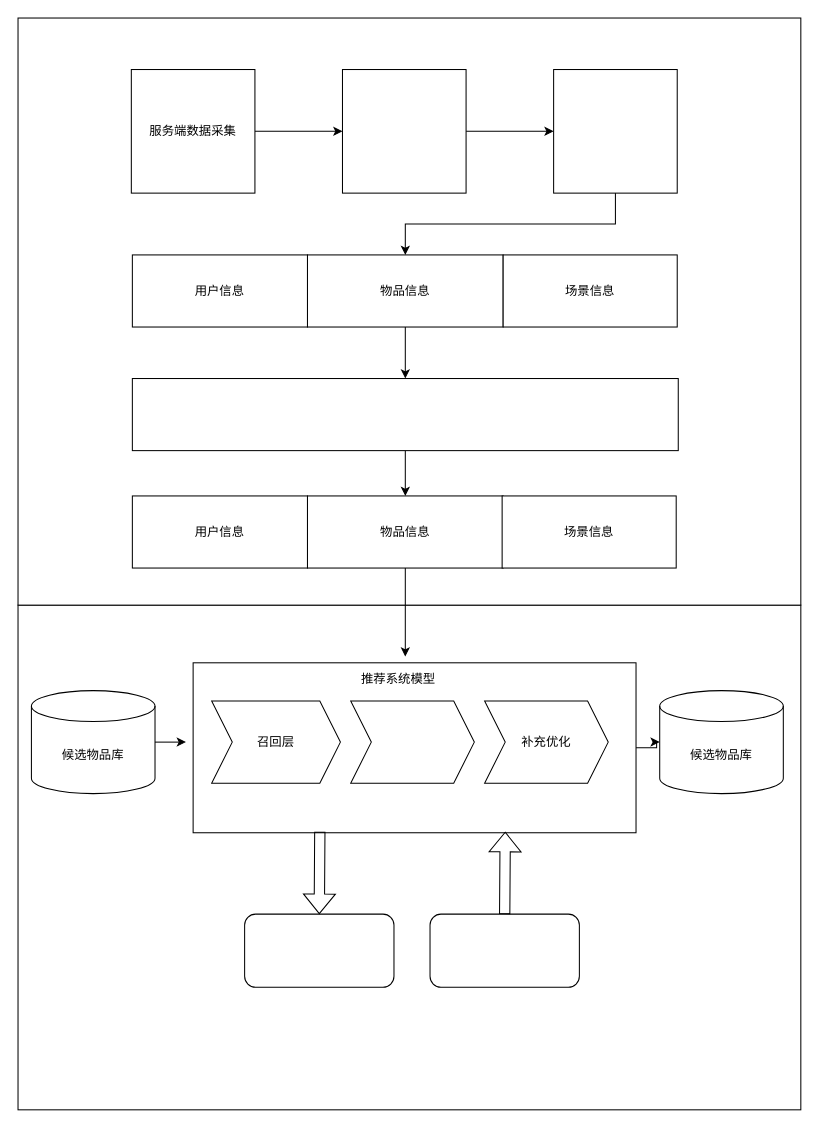
This 819x1128 diagram has some shape labels left out. Here are the shapes that lost their labels. From the top down, the centre of each, then its label:
At [403,130]: "数据过滤".
At [615,130]: "大数据平台处理".
At [404,414]: "特征工程".
At [412,741]: "排序层".
At [319,950]: "模型训练".
At [504,950]: "模型评估".
